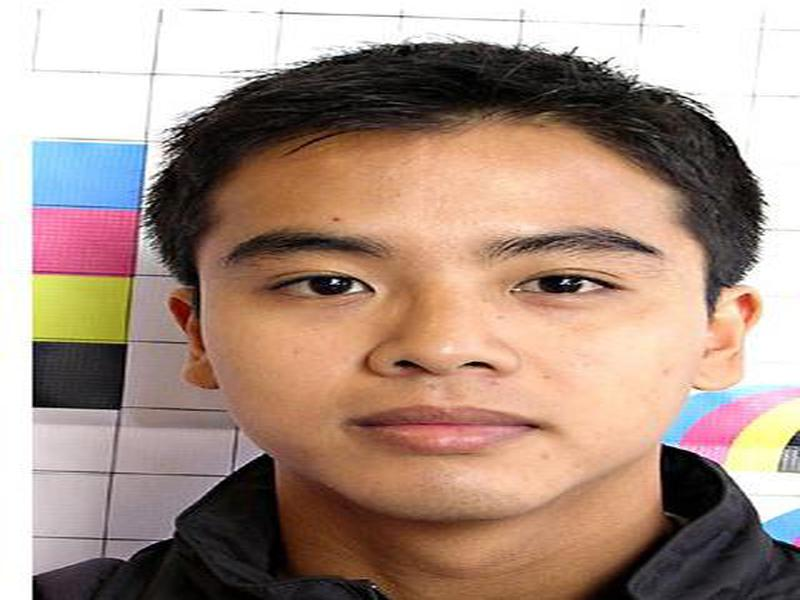without_mask: (195, 167, 702, 516)
